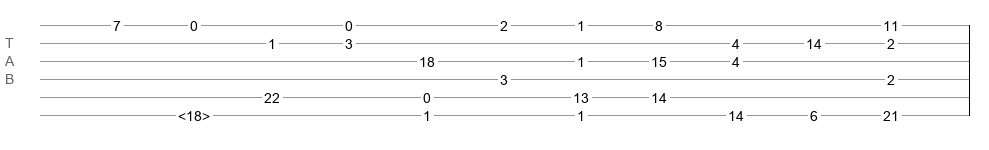0: (190, 18, 198, 28), (345, 18, 353, 28), (423, 90, 431, 100)
1: (268, 36, 276, 46), (423, 108, 431, 118), (577, 54, 585, 64), (577, 18, 585, 28), (577, 108, 585, 118)
11: (883, 18, 899, 28)
13: (573, 90, 589, 100)
14: (651, 90, 667, 100), (728, 108, 744, 118), (806, 36, 822, 46)
15: (651, 54, 667, 64)
18: (419, 54, 435, 64)
2: (500, 18, 508, 28), (887, 72, 895, 82), (887, 36, 895, 46)
21: (883, 108, 899, 118)
22: (264, 90, 280, 100)
3: (345, 36, 353, 46), (500, 72, 508, 82)
4: (732, 54, 740, 64), (732, 36, 740, 46)
6: (810, 108, 818, 118)
7: (113, 18, 121, 28)
8: (655, 18, 663, 28)
harmonic: (178, 108, 210, 118)
